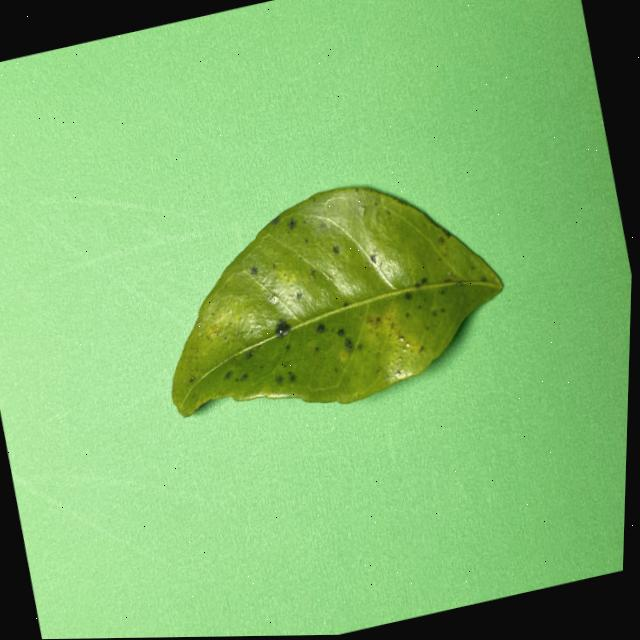sooty_mold: (172, 187, 495, 415)
